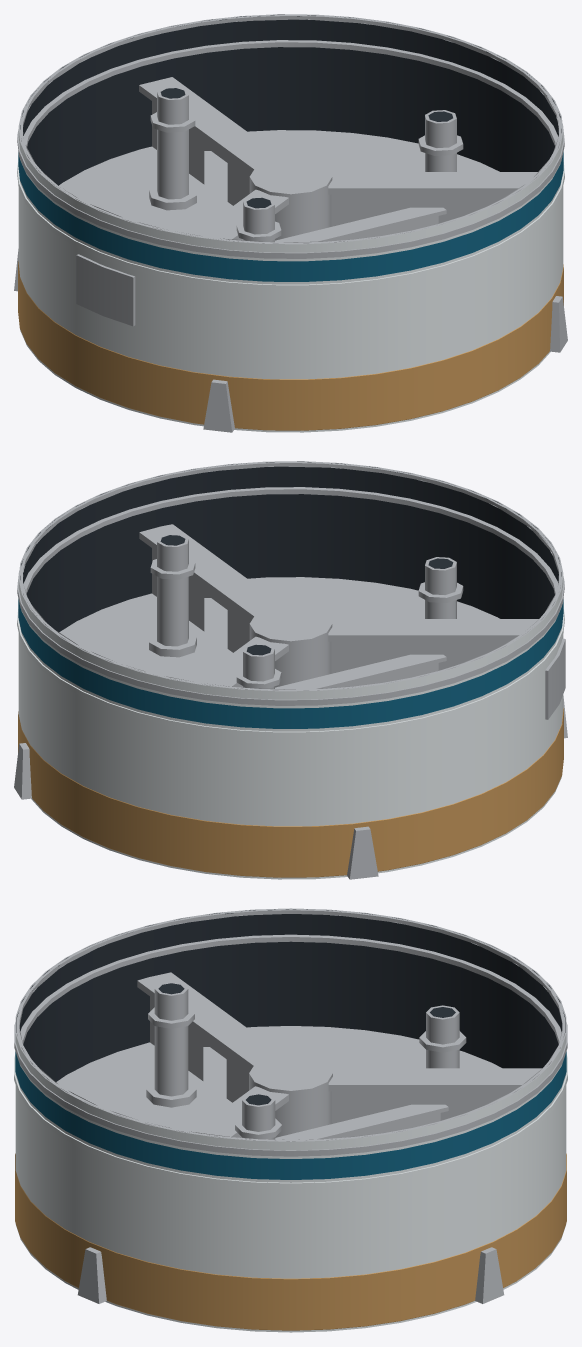
The model's file is mount_s1_3_d84.glb.
The picture shows the model from 3 angles, top to bottom: view 1: azimuth 30°, elevation 25°; view 2: azimuth 150°, elevation 25°; view 3: azimuth 270°, elevation 25°; orthographic projection.
Parts seen in each view (by area): view 1: mount_s1_3_d84_mesh; view 2: mount_s1_3_d84_mesh; view 3: mount_s1_3_d84_mesh.
Boxes of the visible parts, x1=… form: mount_s1_3_d84_mesh: x1=14, y1=14, x2=567, y2=432; mount_s1_3_d84_mesh: x1=14, y1=461, x2=567, y2=879; mount_s1_3_d84_mesh: x1=14, y1=908, x2=567, y2=1332.
Size of the model in its own units: 8.45 by 3.2 by 8.43.
